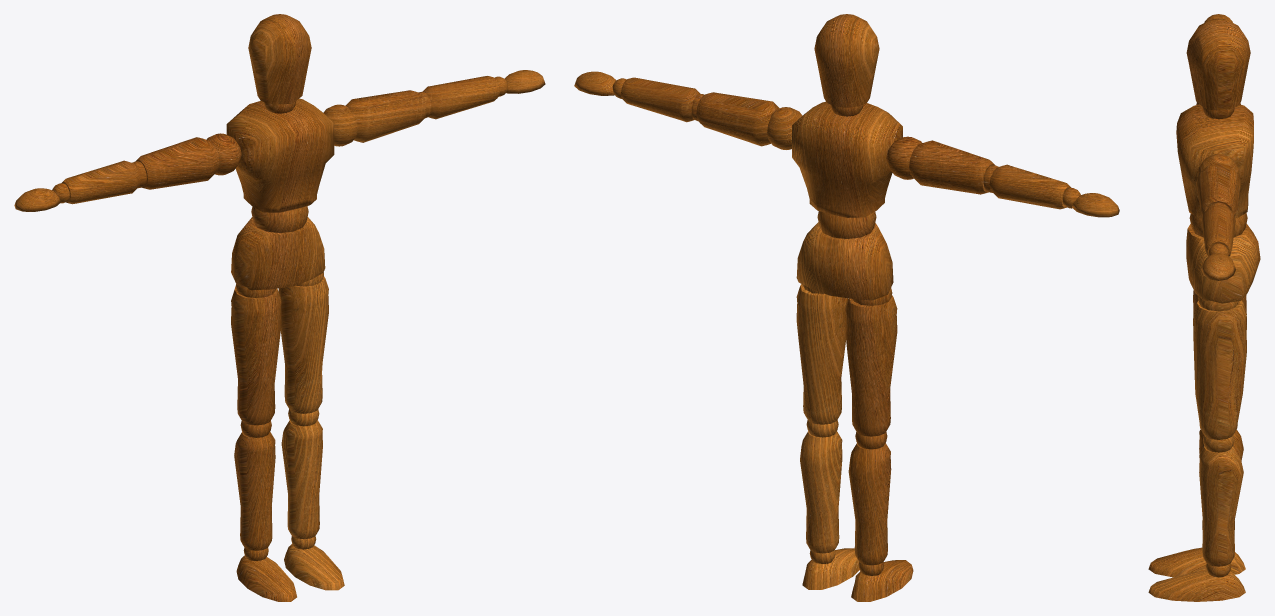
File: Full Mannequin.obj
3 views of the same model, side by side, from view 1: azimuth 30°, elevation 25°; view 2: azimuth 150°, elevation 25°; view 3: azimuth 270°, elevation 25° (orthographic). The views are drawn at different scales.
Visible parts, largest first — view 1: dummy_belly dummy_hips3 dummy_torso polySurface1, dummy_hips3 dummy_rpelvis dummy_rupleg polySurface1, dummy_hips3 dummy_lpelvis dummy_lupleg polySurface1, dummy_hips3 polySurface1, dummy_belly dummy_headq dummy_hips3 dummy_neck dummy_torso polyS, dummy_hips3 dummy_rknee dummy_rleg dummy_rpelvis dummy_rupleg po, dummy_hips3 dummy_lknee dummy_lleg dummy_lpelvis dummy_lupleg po, dummy_belly dummy_hips3 dummy_rarm dummy_relbow dummy_rfarm dumm, dummy_belly dummy_hips3 dummy_larm dummy_lelbow dummy_lfarm dumm, dummy_belly dummy_hips3 dummy_rarm dummy_rshoulder dummy_torso p, dummy_belly dummy_hips3 dummy_larm dummy_lshoulder dummy_torso p, dummy_hips3 dummy_lankle dummy_lfoot dummy_lknee dummy_lleg dumm (+4 smaller); view 2: dummy_belly dummy_hips3 dummy_torso polySurface1, dummy_hips3 dummy_rpelvis dummy_rupleg polySurface1, dummy_hips3 dummy_lpelvis dummy_lupleg polySurface1, dummy_hips3 polySurface1, dummy_belly dummy_headq dummy_hips3 dummy_neck dummy_torso polyS, dummy_hips3 dummy_lknee dummy_lleg dummy_lpelvis dummy_lupleg po, dummy_hips3 dummy_rknee dummy_rleg dummy_rpelvis dummy_rupleg po, dummy_belly dummy_hips3 dummy_rarm dummy_relbow dummy_rfarm dumm, dummy_belly dummy_hips3 dummy_larm dummy_lelbow dummy_lfarm dumm, dummy_belly dummy_hips3 dummy_rarm dummy_rshoulder dummy_torso p, dummy_belly dummy_hips3 dummy_larm dummy_lshoulder dummy_torso p, dummy_hips3 dummy_rankle dummy_rfoot dummy_rknee dummy_rleg dumm (+4 smaller); view 3: dummy_hips3 dummy_lpelvis dummy_lupleg polySurface1, dummy_belly dummy_hips3 dummy_torso polySurface1, dummy_belly dummy_headq dummy_hips3 dummy_neck dummy_torso polyS, dummy_hips3 dummy_lknee dummy_lleg dummy_lpelvis dummy_lupleg po, dummy_hips3 polySurface1, dummy_hips3 dummy_lankle dummy_lfoot dummy_lknee dummy_lleg dumm, dummy_belly dummy_hips3 dummy_larm dummy_lelbow dummy_lfarm dumm, dummy_belly dummy_hips3 dummy_larm dummy_lshoulder dummy_torso p, dummy_hips3 dummy_rankle dummy_rfoot dummy_rknee dummy_rleg dumm, dummy_belly dummy_hips3 polySurface1, dummy_belly dummy_hips3 dummy_lshoulder dummy_torso polySurface1, dummy_hips3 dummy_lknee dummy_lpelvis dummy_lupleg polySurface1 (+4 smaller).
Boxes of the visible parts, x1=… form: dummy_belly dummy_hips3 dummy_torso polySurface1: x1=226, y1=98, x2=334, y2=212; dummy_hips3 dummy_rpelvis dummy_rupleg polySurface1: x1=231, y1=285, x2=281, y2=425; dummy_hips3 dummy_lpelvis dummy_lupleg polySurface1: x1=278, y1=276, x2=328, y2=413; dummy_hips3 polySurface1: x1=231, y1=217, x2=325, y2=290; dummy_belly dummy_headq dummy_hips3 dummy_neck dummy_torso polyS: x1=248, y1=14, x2=311, y2=104; dummy_hips3 dummy_rknee dummy_rleg dummy_rpelvis dummy_rupleg po: x1=234, y1=431, x2=275, y2=550; dummy_hips3 dummy_lknee dummy_lleg dummy_lpelvis dummy_lupleg po: x1=281, y1=420, x2=322, y2=539; dummy_belly dummy_hips3 dummy_rarm dummy_relbow dummy_rfarm dumm: x1=14, y1=160, x2=141, y2=211; dummy_belly dummy_hips3 dummy_larm dummy_lelbow dummy_lfarm dumm: x1=423, y1=70, x2=545, y2=119; dummy_belly dummy_hips3 dummy_rarm dummy_rshoulder dummy_torso p: x1=135, y1=137, x2=219, y2=189; dummy_belly dummy_hips3 dummy_larm dummy_lshoulder dummy_torso p: x1=345, y1=90, x2=426, y2=142; dummy_hips3 dummy_lankle dummy_lfoot dummy_lknee dummy_lleg dumm: x1=284, y1=544, x2=344, y2=590; dummy_belly dummy_hips3 dummy_torso polySurface1: x1=792, y1=101, x2=902, y2=217; dummy_hips3 dummy_rpelvis dummy_rupleg polySurface1: x1=845, y1=295, x2=897, y2=436; dummy_hips3 dummy_lpelvis dummy_lupleg polySurface1: x1=796, y1=284, x2=848, y2=424; dummy_hips3 polySurface1: x1=796, y1=222, x2=893, y2=300; dummy_belly dummy_headq dummy_hips3 dummy_neck dummy_torso polyS: x1=814, y1=14, x2=879, y2=107; dummy_hips3 dummy_lknee dummy_lleg dummy_lpelvis dummy_lupleg po: x1=800, y1=431, x2=842, y2=553; dummy_hips3 dummy_rknee dummy_rleg dummy_rpelvis dummy_rupleg po: x1=848, y1=443, x2=891, y2=565; dummy_belly dummy_hips3 dummy_rarm dummy_relbow dummy_rfarm dumm: x1=989, y1=164, x2=1119, y2=217; dummy_belly dummy_hips3 dummy_larm dummy_lelbow dummy_lfarm dumm: x1=574, y1=71, x2=700, y2=122; dummy_belly dummy_hips3 dummy_rarm dummy_rshoulder dummy_torso p: x1=909, y1=140, x2=995, y2=194; dummy_belly dummy_hips3 dummy_larm dummy_lshoulder dummy_torso p: x1=696, y1=92, x2=779, y2=146; dummy_hips3 dummy_rankle dummy_rfoot dummy_rknee dummy_rleg dumm: x1=851, y1=560, x2=913, y2=601; dummy_hips3 dummy_lpelvis dummy_lupleg polySurface1: x1=1193, y1=300, x2=1246, y2=439; dummy_belly dummy_hips3 dummy_torso polySurface1: x1=1176, y1=104, x2=1253, y2=218; dummy_belly dummy_headq dummy_hips3 dummy_neck dummy_torso polyS: x1=1186, y1=18, x2=1250, y2=110; dummy_hips3 dummy_lknee dummy_lleg dummy_lpelvis dummy_lupleg po: x1=1199, y1=446, x2=1243, y2=566; dummy_hips3 polySurface1: x1=1186, y1=223, x2=1260, y2=303; dummy_hips3 dummy_lankle dummy_lfoot dummy_lknee dummy_lleg dumm: x1=1148, y1=570, x2=1245, y2=601; dummy_belly dummy_hips3 dummy_larm dummy_lelbow dummy_lfarm dumm: x1=1201, y1=205, x2=1235, y2=280; dummy_belly dummy_hips3 dummy_larm dummy_lshoulder dummy_torso p: x1=1196, y1=163, x2=1241, y2=216; dummy_hips3 dummy_rankle dummy_rfoot dummy_rknee dummy_rleg dumm: x1=1148, y1=547, x2=1245, y2=577; dummy_belly dummy_hips3 polySurface1: x1=1189, y1=213, x2=1247, y2=237; dummy_belly dummy_hips3 dummy_lshoulder dummy_torso polySurface1: x1=1197, y1=153, x2=1239, y2=176; dummy_hips3 dummy_lknee dummy_lpelvis dummy_lupleg polySurface1: x1=1203, y1=435, x2=1234, y2=452.
Bounding box in the file's own units: 9.9 × 9.91 × 1.8.
Materials: 1 (1 with a texture image).
